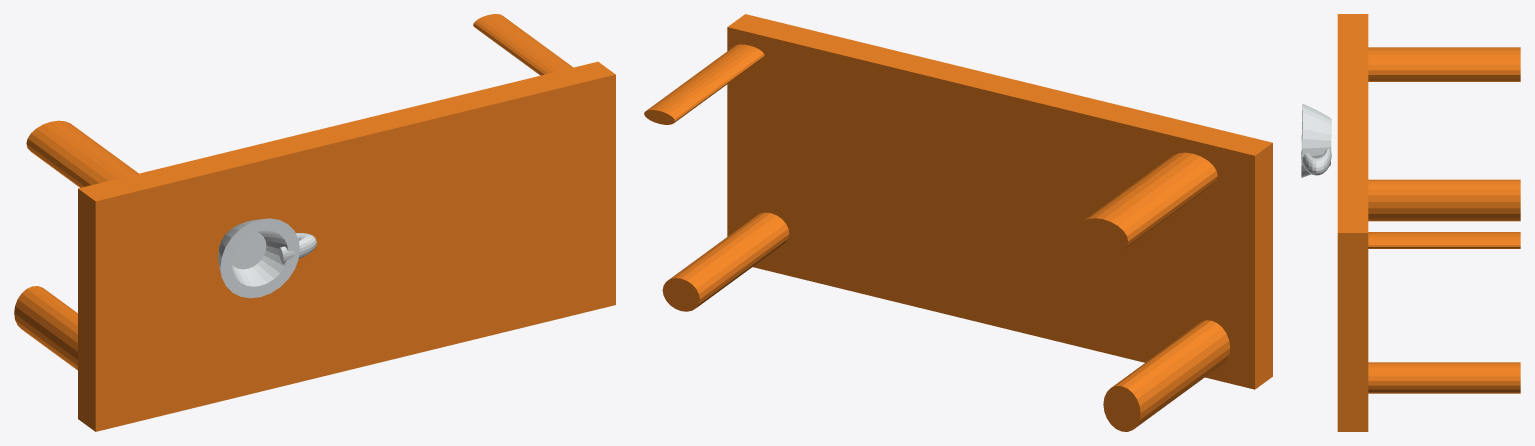
The model's file is tinker.obj.
3 views of the same model, side by side, from view 1: azimuth 30°, elevation 25°; view 2: azimuth 150°, elevation 25°; view 3: azimuth 270°, elevation 25° (orthographic). The views are drawn at different scales.
Parts seen in each view (by area): view 1: group_0_16089887, group_0_14541540; view 2: group_0_16089887; view 3: group_0_16089887, group_0_14541540.
Boxes of the visible parts, bbox=[...] form: group_0_16089887: bbox=[14, 14, 615, 431]; group_0_14541540: bbox=[218, 218, 316, 298]; group_0_16089887: bbox=[644, 14, 1272, 431]; group_0_16089887: bbox=[1337, 14, 1520, 431]; group_0_14541540: bbox=[1301, 104, 1331, 177].
Size of the model in its own units: 85 by 36 by 36.
